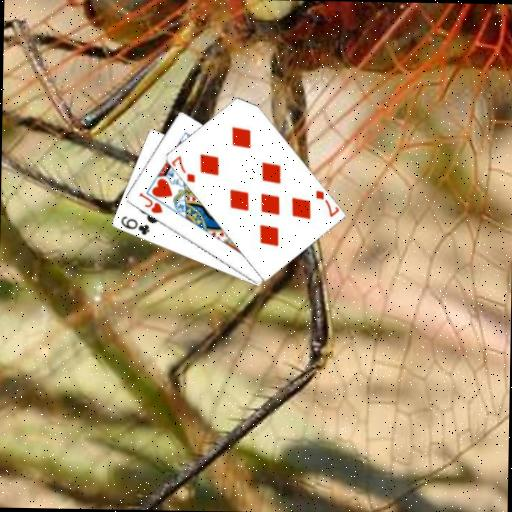6C: (117, 213, 151, 237)
7D: (169, 152, 197, 184), (312, 187, 340, 218)
JH: (135, 189, 164, 215)
